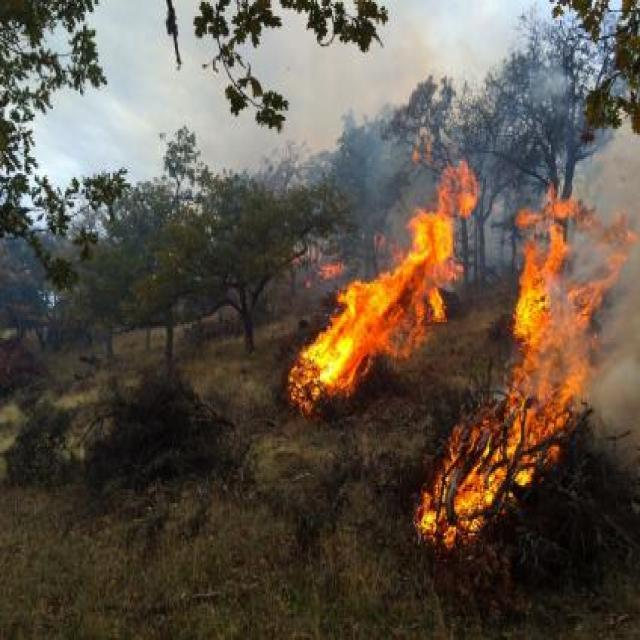Fire: (407, 182, 640, 573), (286, 154, 482, 421)
Smoke: (589, 151, 640, 453)
